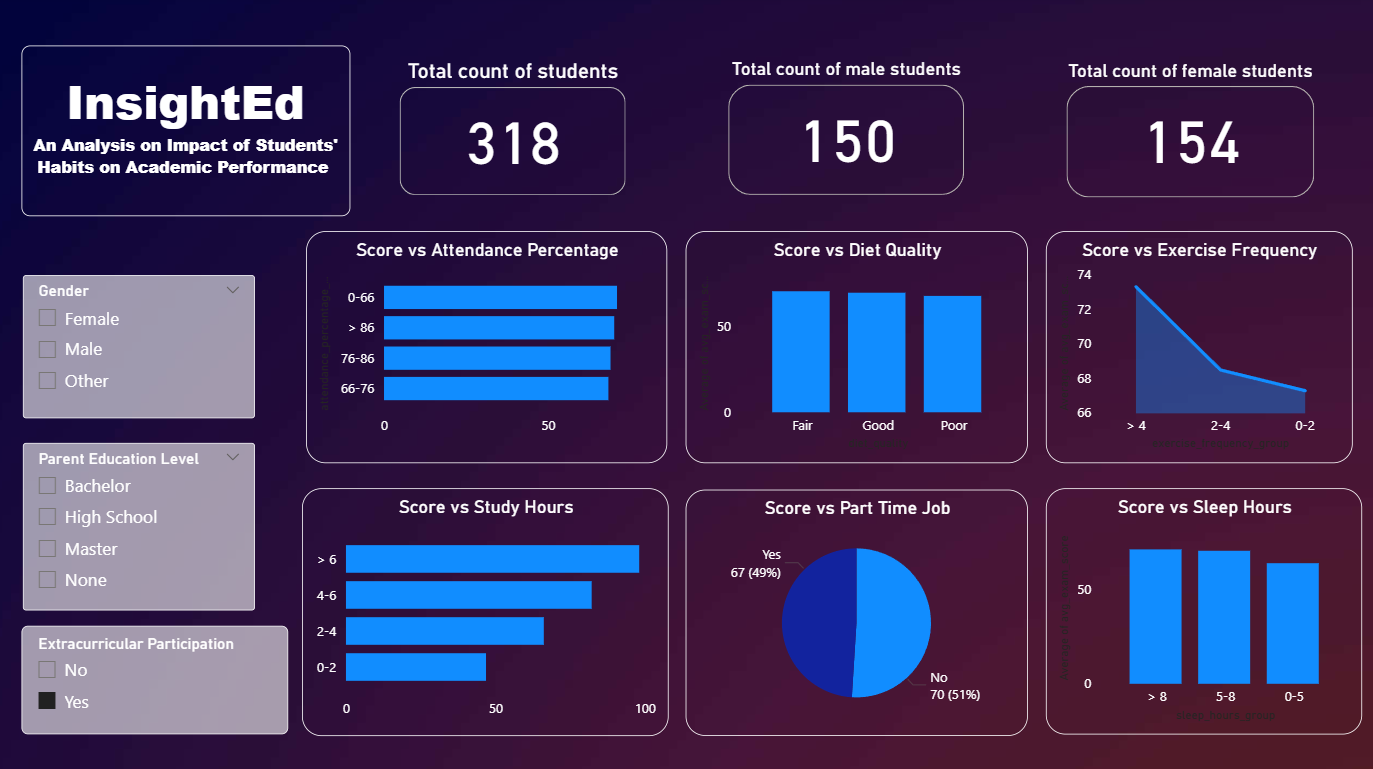

The dashboard page shown, as its layout file describes it:
{"tool":"powerbi","page":{"name":"Page 1","canvas":[1280,720],"ordinal":0},"visuals":[{"type":"cardVisual","title":"Total count of students","fields":{"Data":["Sum(dataset.count_of_students)"]},"box":[369.9,57.2,219.9,132.2],"z":0},{"type":"cardVisual","title":"Total count of female students","fields":{"Data":["Sum(dataset.count_of_students)"]},"box":[985.8,58.5,239.5,133],"z":1000},{"type":"cardVisual","title":"Total count of male students","fields":{"Data":["Sum(dataset.count_of_students)"]},"box":[673.1,57.2,228.8,131.7],"z":2000},{"type":"barChart","title":"Score vs Attendance Percentage","fields":{"Category":["dataset.attendance_percentage_group"],"Y":["Avg(dataset.avg_exam_score)"]},"box":[288.7,216.8,333.9,214.2],"z":3000},{"type":"clusteredColumnChart","title":"Score vs Diet Quality","fields":{"Y":["Avg(dataset.avg_exam_score)"],"Category":["dataset.diet_quality"]},"box":[639.9,216.8,316.6,214.2],"z":4000},{"type":"stackedAreaChart","title":"Score vs Exercise Frequency","fields":{"Category":["dataset.exercise_frequency_group"],"Y":["Avg(dataset.avg_exam_score)"]},"box":[972.5,216.8,283.4,214.2],"z":5000},{"type":"barChart","title":"Score vs Study Hours","fields":{"Category":["dataset.study_hours_per_day_group"],"Y":["Avg(dataset.avg_exam_score)"]},"box":[284.7,455,339.2,228.8],"z":6000},{"type":"pieChart","title":"Score vs Part Time Job","fields":{"Category":["dataset.part_time_job"],"Y":["Avg(dataset.avg_exam_score)"]},"box":[639.9,456.3,316.6,227.5],"z":7000},{"type":"clusteredColumnChart","title":"Score vs Sleep Hours","fields":{"Y":["Avg(dataset.avg_exam_score)"],"Category":["dataset.sleep_hours_group"]},"box":[972.5,455,292.7,227.5],"z":8000},{"type":"slicer","fields":{"Values":["dataset.gender"]},"box":[26.7,258,214.8,132.2],"z":9000},{"type":"slicer","fields":{"Values":["dataset.parental_education_level"]},"box":[26.7,413.1,214.8,155.1],"z":10000},{"type":"slicer","fields":{"Values":["dataset.extracurricular_participation"]},"box":[25.4,582.1,246.6,100.4],"z":11000},{"type":"textbox","box":[25.4,45.8,303.8,157.6],"z":12000}]}

Visuals, with their boxes in screenshot pixels (x1, y1, x2, y2), scaled from the page's 1280x720 canvas onto the 1373x769 screenshot:
"Total count of students" cardVisual: x1=397, y1=61, x2=633, y2=202
"Total count of female students" cardVisual: x1=1057, y1=62, x2=1314, y2=205
"Total count of male students" cardVisual: x1=722, y1=61, x2=967, y2=202
"Score vs Attendance Percentage" barChart: x1=310, y1=232, x2=668, y2=460
"Score vs Diet Quality" clusteredColumnChart: x1=686, y1=232, x2=1026, y2=460
"Score vs Exercise Frequency" stackedAreaChart: x1=1043, y1=232, x2=1347, y2=460
"Score vs Study Hours" barChart: x1=305, y1=486, x2=669, y2=730
"Score vs Part Time Job" pieChart: x1=686, y1=487, x2=1026, y2=730
"Score vs Sleep Hours" clusteredColumnChart: x1=1043, y1=486, x2=1357, y2=729
slicer - dataset.gender: x1=29, y1=276, x2=259, y2=417
slicer - dataset.parental_education_level: x1=29, y1=441, x2=259, y2=607
slicer - dataset.extracurricular_participation: x1=27, y1=622, x2=292, y2=729
textbox: x1=27, y1=49, x2=353, y2=217
